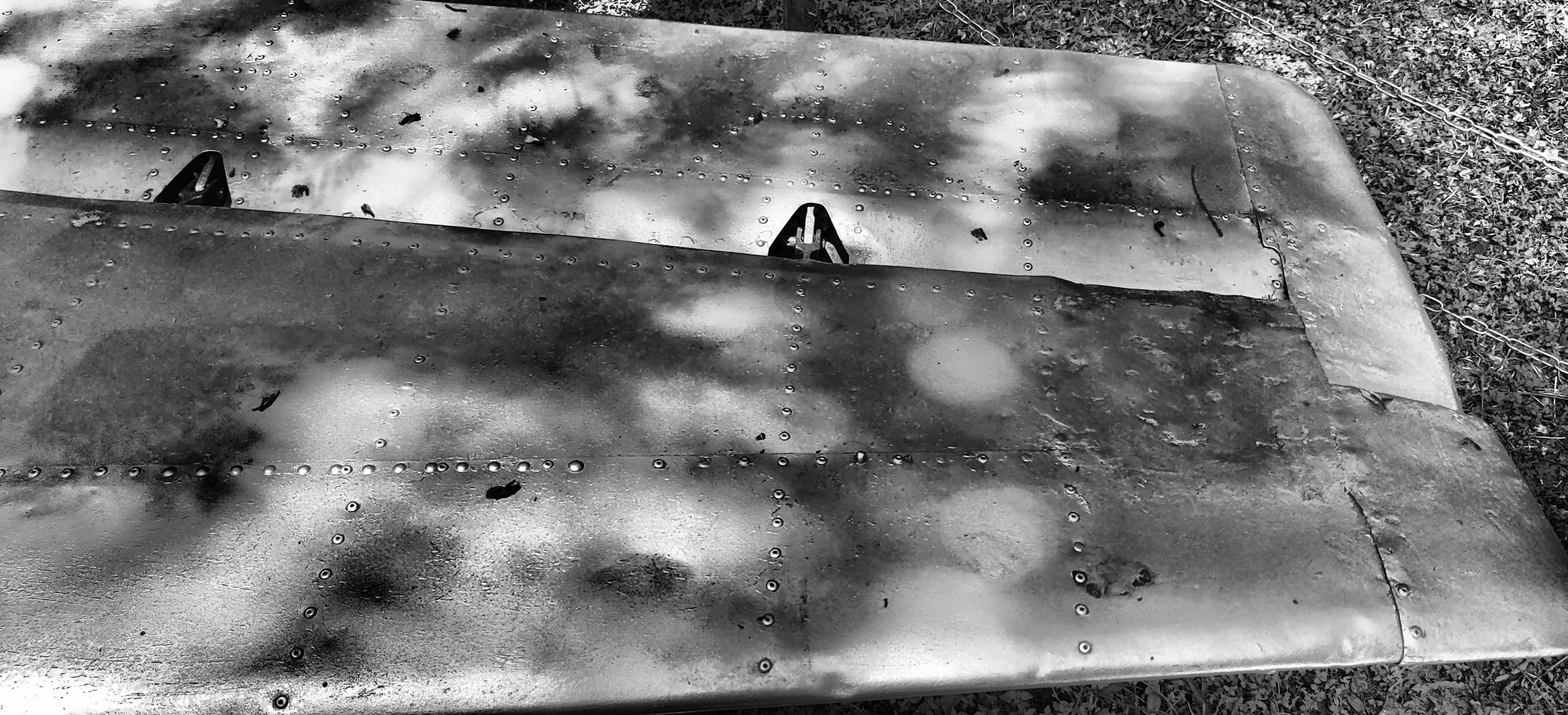dent: (594, 549, 691, 597), (848, 220, 889, 264), (818, 673, 857, 702)
missing-head: (1266, 217, 1272, 223)
